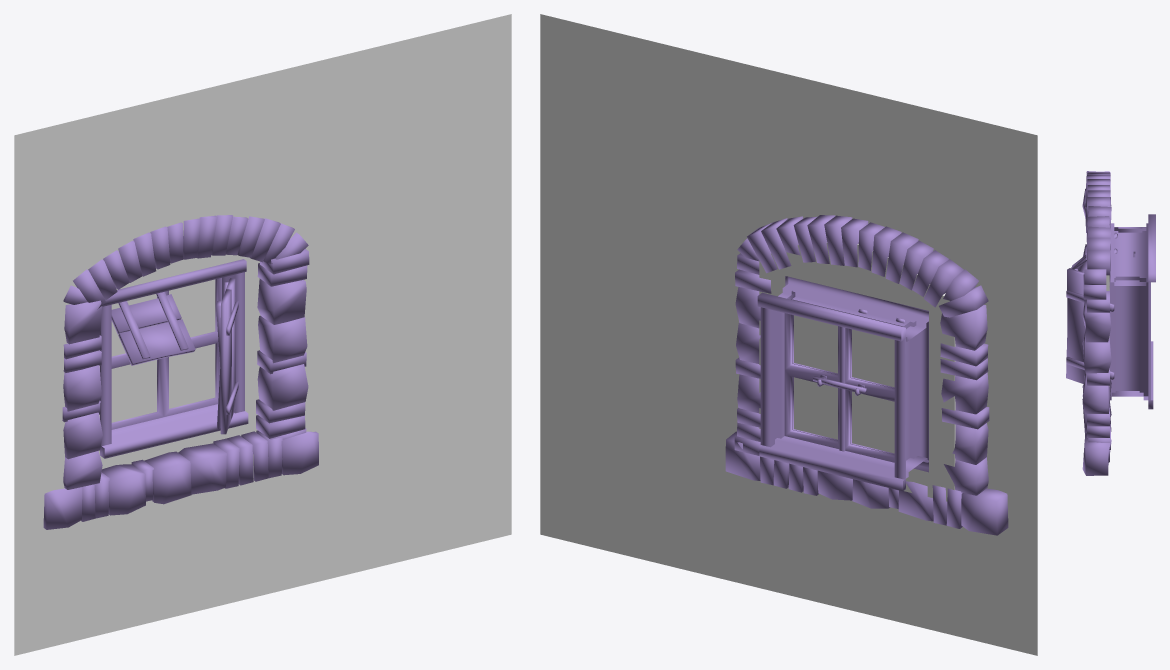
File: window_c_outside_variant_c.fbx
3 views of the same model, side by side, from view 1: azimuth 30°, elevation 25°; view 2: azimuth 150°, elevation 25°; view 3: azimuth 270°, elevation 25° (orthographic). The views are drawn at different scales.
Parts seen in each view (by area): view 1: Plane.043, Plane.025, Plane.077, Plane.044, Plane.045; view 2: Plane.043, Plane.025, Plane.077; view 3: Plane.025, Plane.045, Plane.044.
Boxes of the visible parts, left/top/right/bottom form: Plane.043: left=14, top=14, right=511, bottom=655; Plane.025: left=43, top=215, right=318, bottom=529; Plane.077: left=111, top=279, right=215, bottom=422; Plane.044: left=111, top=292, right=195, bottom=365; Plane.045: left=216, top=278, right=238, bottom=434; Plane.043: left=540, top=14, right=1037, bottom=655; Plane.025: left=725, top=215, right=1008, bottom=535; Plane.077: left=794, top=315, right=894, bottom=453; Plane.025: left=1082, top=171, right=1155, bottom=475; Plane.045: left=1066, top=268, right=1114, bottom=383; Plane.044: left=1071, top=232, right=1117, bottom=272.
Bounding box in the file's own units: 5 × 5 × 0.9307.
